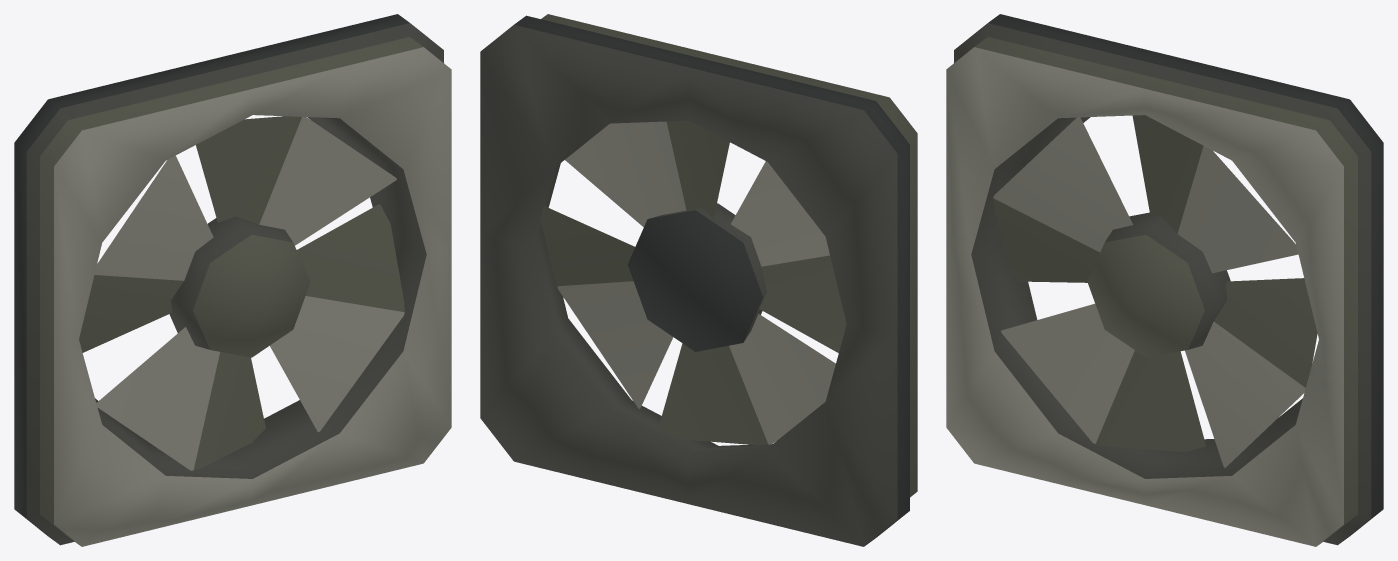
Rendered from fan.glb.
3 views of the same model, side by side, from view 1: azimuth 30°, elevation 25°; view 2: azimuth 150°, elevation 25°; view 3: azimuth 330°, elevation 25° (orthographic).
Parts seen in each view (by area): view 1: Plane.016; view 2: Plane.016; view 3: Plane.016.
Part boxes in pixels (x1,y1,x2,y2): Plane.016: [14, 14, 451, 546]; Plane.016: [480, 14, 917, 546]; Plane.016: [946, 14, 1383, 546].
Bounding box in the file's own units: 0.3663 × 0.3663 × 0.061.
Materials: 1 (1 with a texture image).
